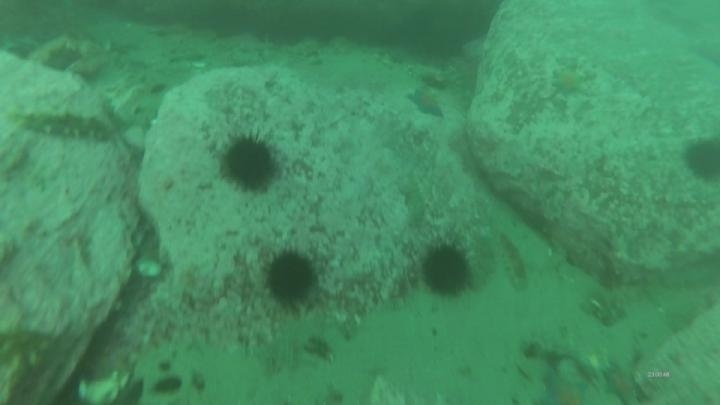echinus: (218, 131, 281, 194), (418, 240, 476, 300), (262, 247, 319, 308), (681, 136, 720, 183)
holothurian: (9, 104, 115, 145), (496, 230, 532, 292)
starfish: (599, 361, 643, 405), (538, 371, 592, 404), (406, 86, 447, 120), (549, 64, 589, 98)
